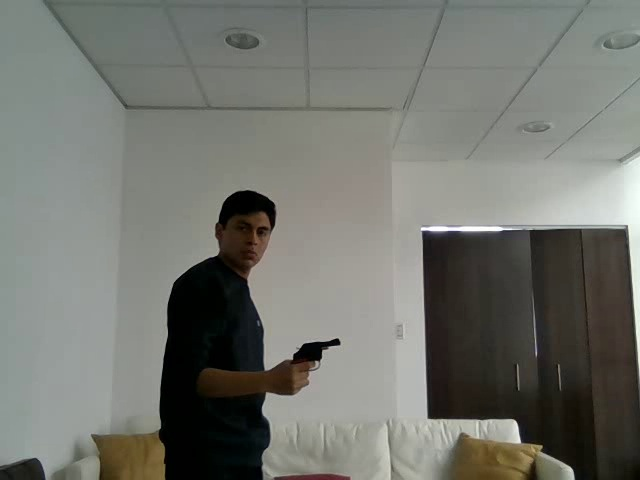pistola: (284, 329, 348, 378)
